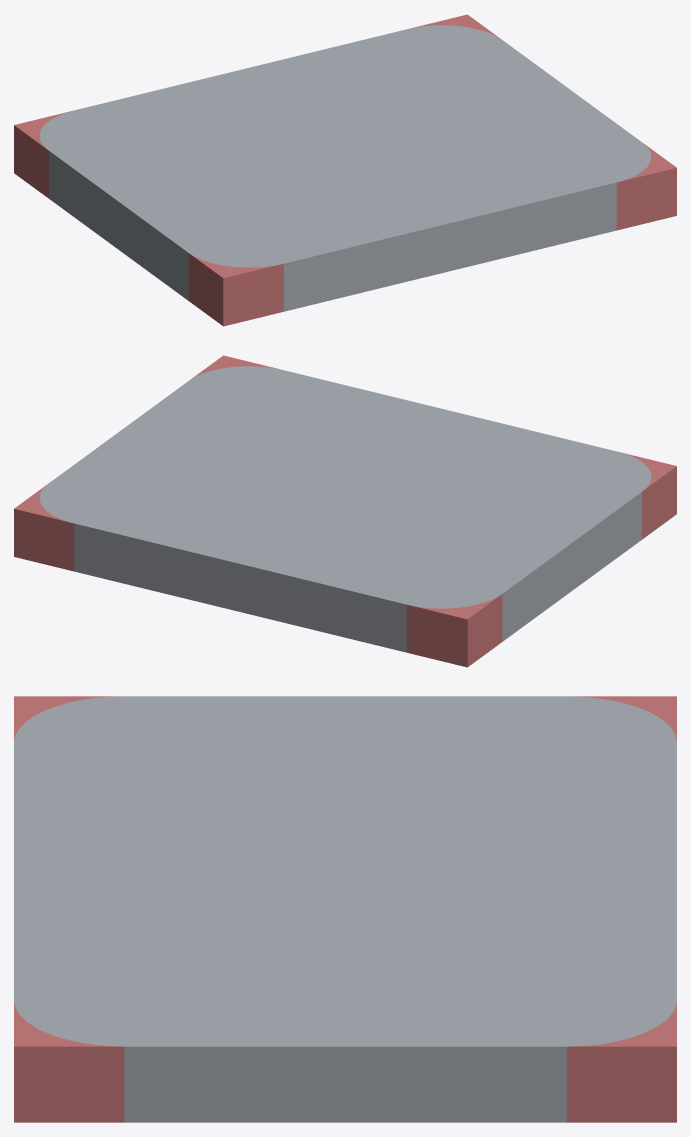
The model's file is step_02.glb.
3 views of the same model, one above another, from view 1: azimuth 30°, elevation 25°; view 2: azimuth 150°, elevation 25°; view 3: azimuth 270°, elevation 25° (orthographic). The views are drawn at different scales.
Visible parts, largest first — view 1: part__angle bracket, removed__angle bracket; view 2: part__angle bracket, removed__angle bracket; view 3: part__angle bracket, removed__angle bracket.
Boxes of the visible parts, x1=… form: part__angle bracket: x1=39, y1=25, x2=651, y2=311; removed__angle bracket: x1=14, y1=14, x2=676, y2=326; part__angle bracket: x1=39, y1=366, x2=651, y2=652; removed__angle bracket: x1=14, y1=355, x2=676, y2=667; part__angle bracket: x1=14, y1=696, x2=676, y2=1122; removed__angle bracket: x1=14, y1=696, x2=676, y2=1122.
Size of the model in its own units: 95.25 by 9.65 by 76.2.
